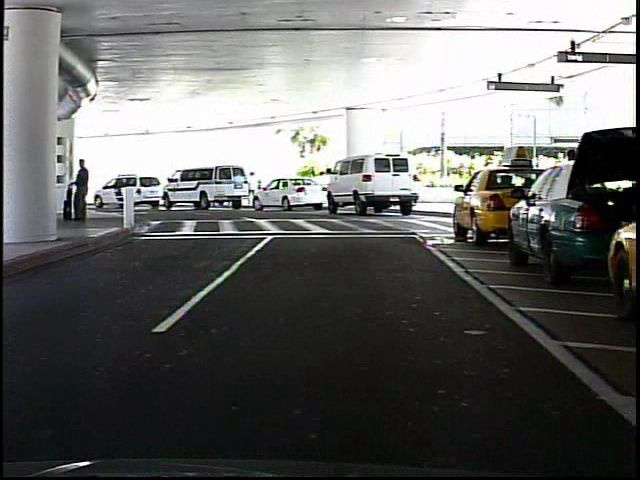person: (74, 157, 94, 223), (246, 170, 262, 207)
